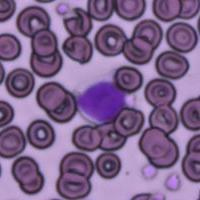L: (76, 74, 136, 125)
